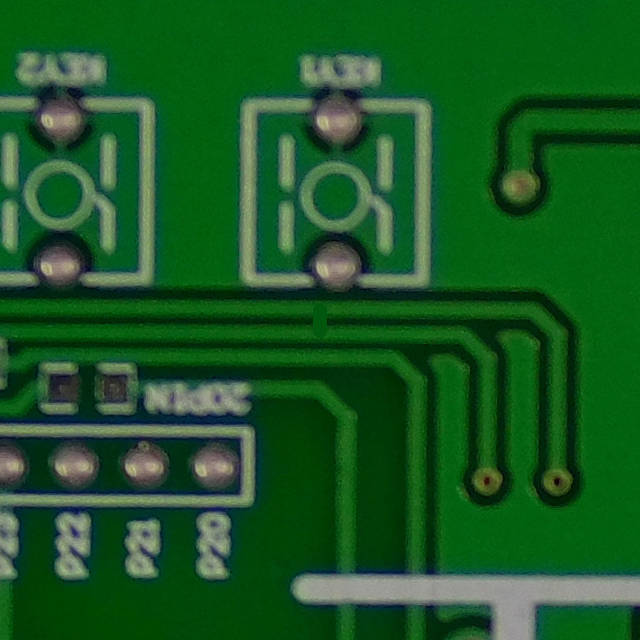short: (283, 290, 358, 351)
